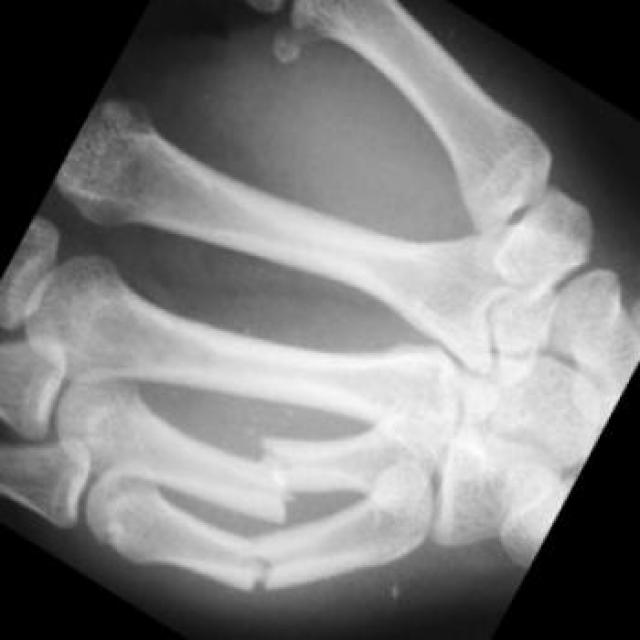Fracture: (245, 424, 299, 520), (234, 543, 282, 602)
